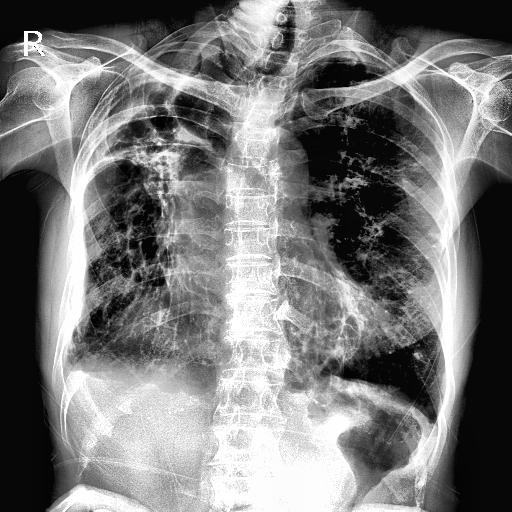1- Atelectasis: (79, 39, 226, 204), (70, 33, 242, 168), (85, 33, 239, 178)
10- Pleural effusion: (51, 366, 214, 394)
11- Pleural thickening: (51, 366, 214, 394), (63, 236, 85, 332), (54, 354, 88, 400), (314, 50, 390, 68)
13- Pulmonary fibrosis: (79, 39, 226, 204), (124, 157, 198, 299), (343, 158, 446, 194), (428, 219, 447, 251)
2- Calcification: (63, 236, 85, 332)
7- Lung Opacity: (66, 178, 224, 382), (85, 33, 239, 178)
